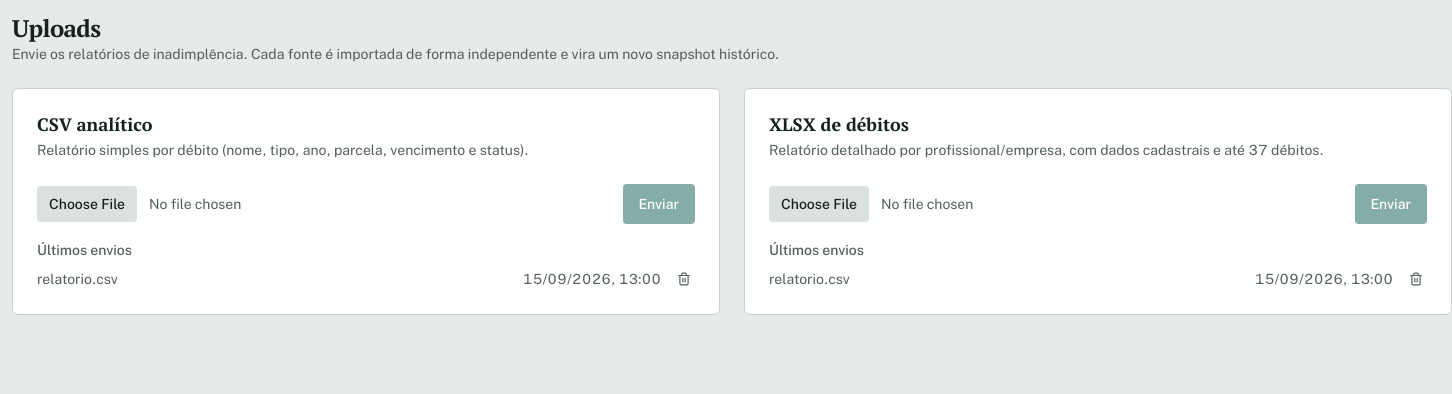
Scenario: UploadsPage › mostra mensagem de erro quando a exclusao do snapshot falha
The width and height of the screenshot is (1452, 394).
Expected: the text "relatorio.csv" below "CSV analítico" is shown, [37, 270, 118, 286]
Step 1. Click the 1st button named "excluir snapshot" → (684, 278), box [673, 268, 695, 290]
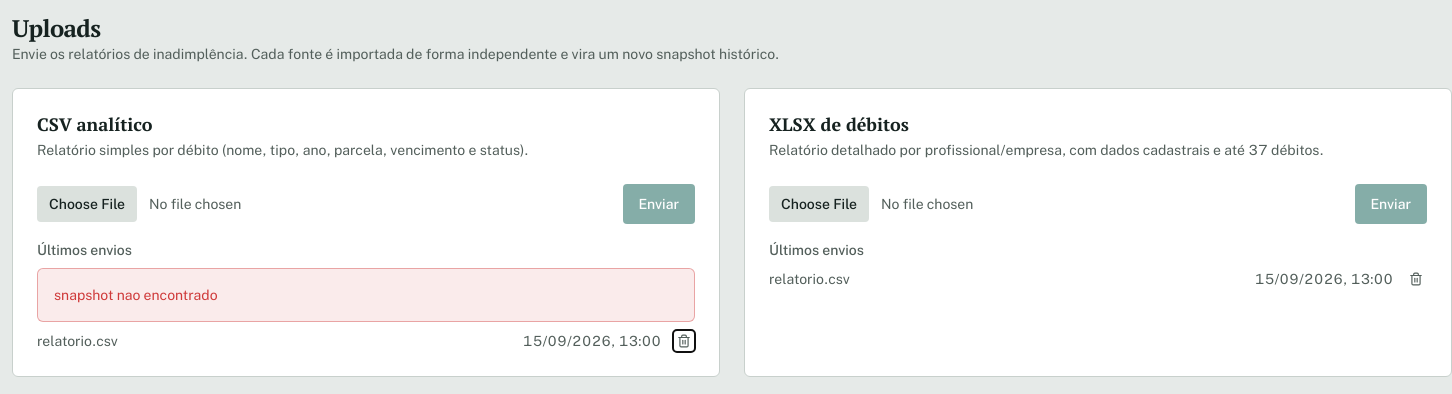
Expected: the text "snapshot nao encontrado" is shown, [37, 268, 695, 322]
